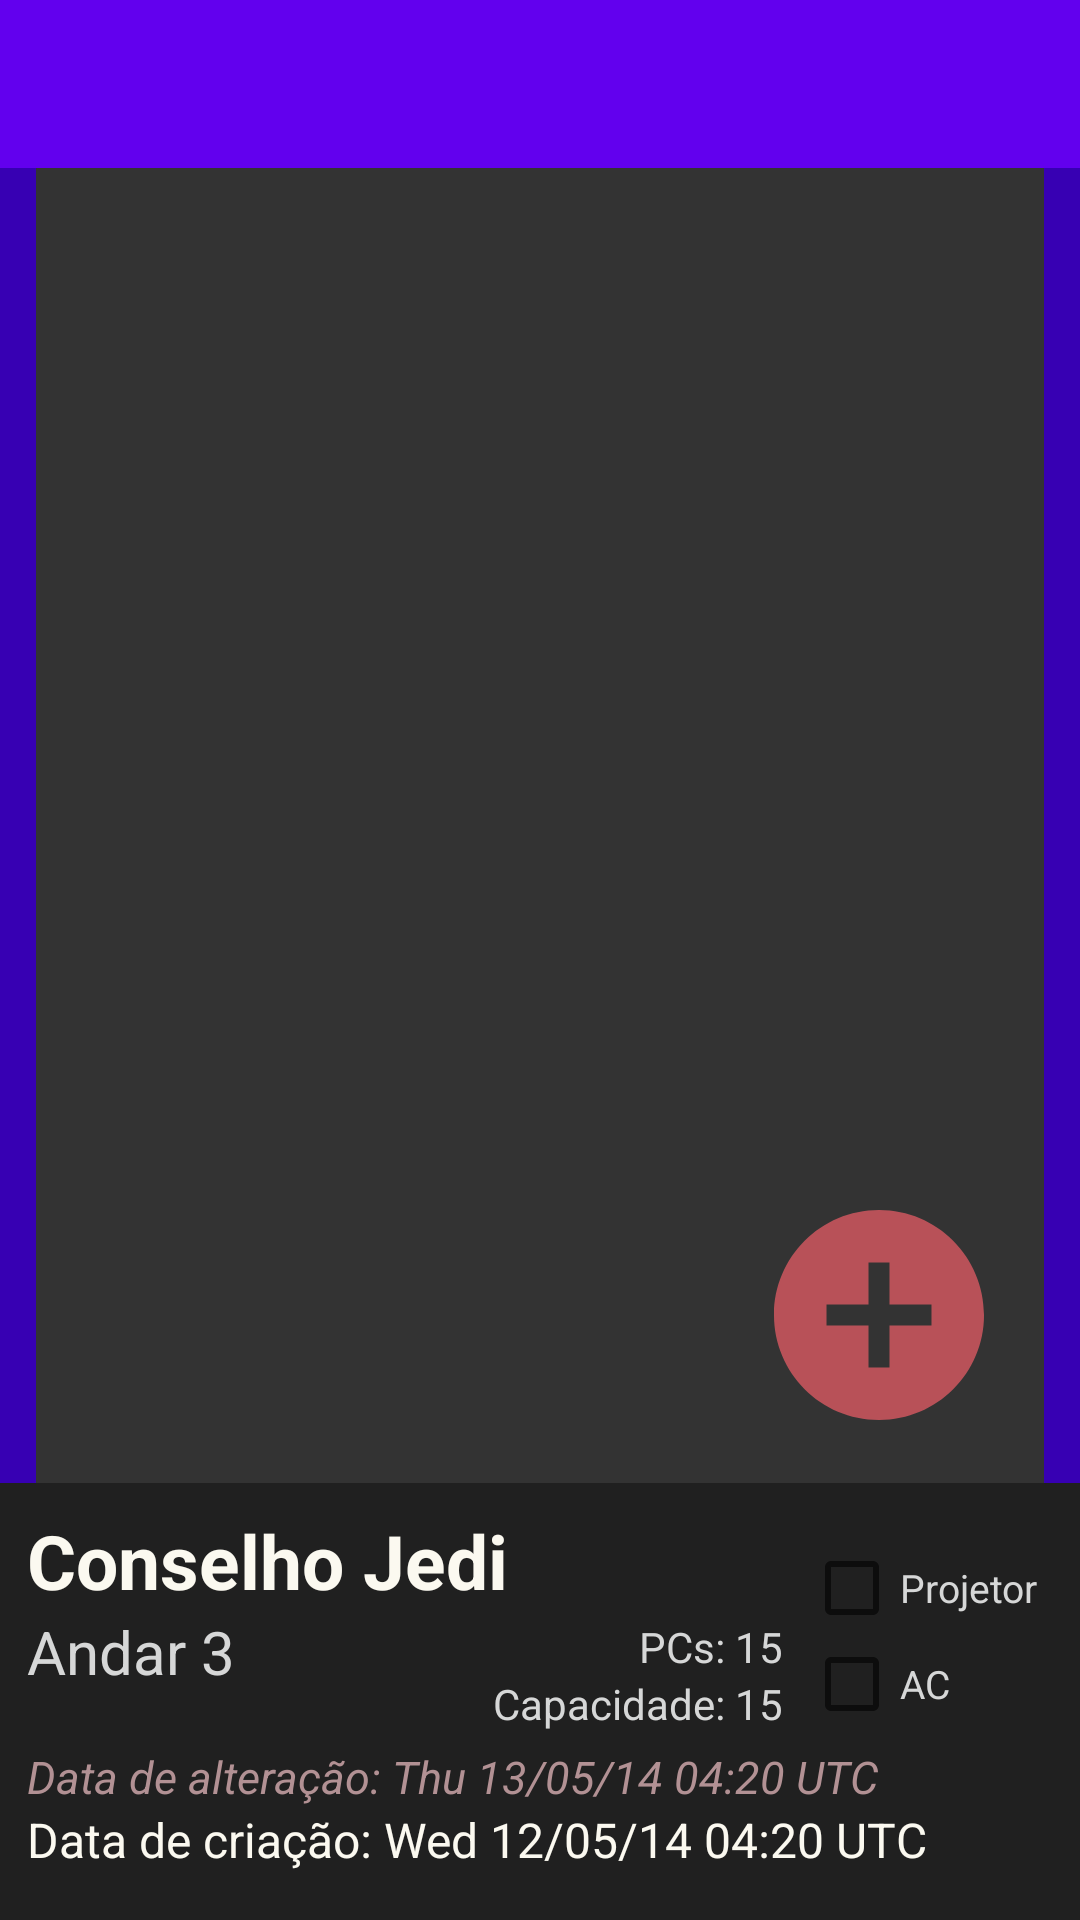

Screen size 1080 x 1920. Icon name, then its box in pixels as (x1=x1, y1=y1, x2=x2, y2=y2):
add: (x1=774, y1=1210, x2=984, y2=1420)
